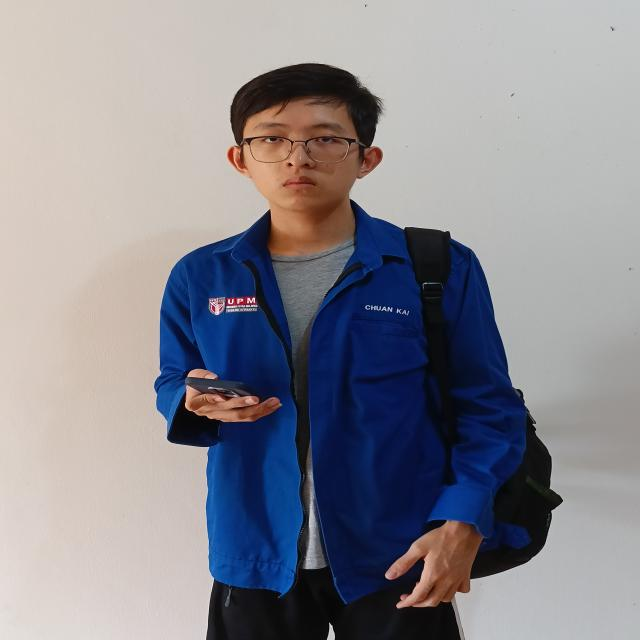person_with_labcoat: (155, 64, 562, 640)
